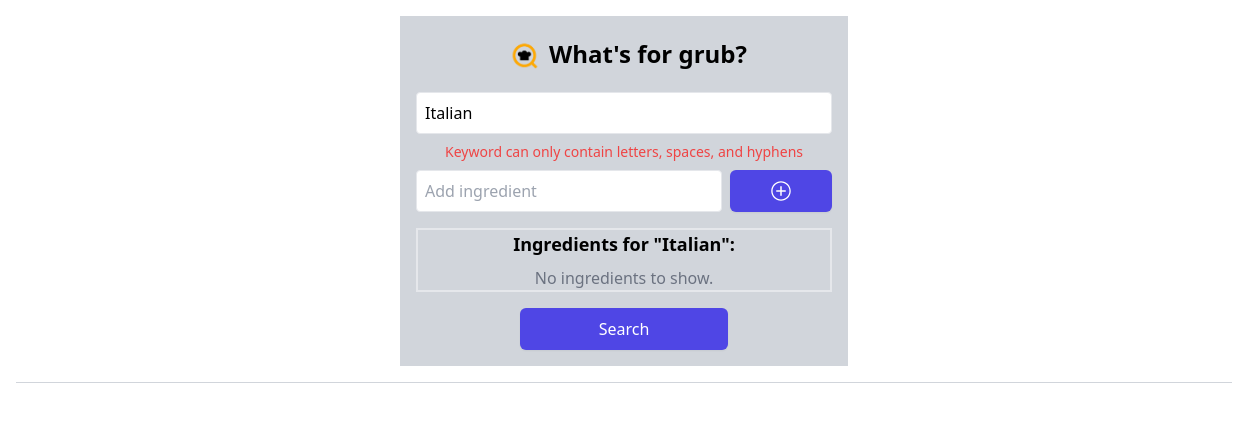
Test: SearchPage component › should show an error if the ingredient is empty
Click the button with test id "add-ingredient-button" at (781, 191), box 730,170 -> 832,212
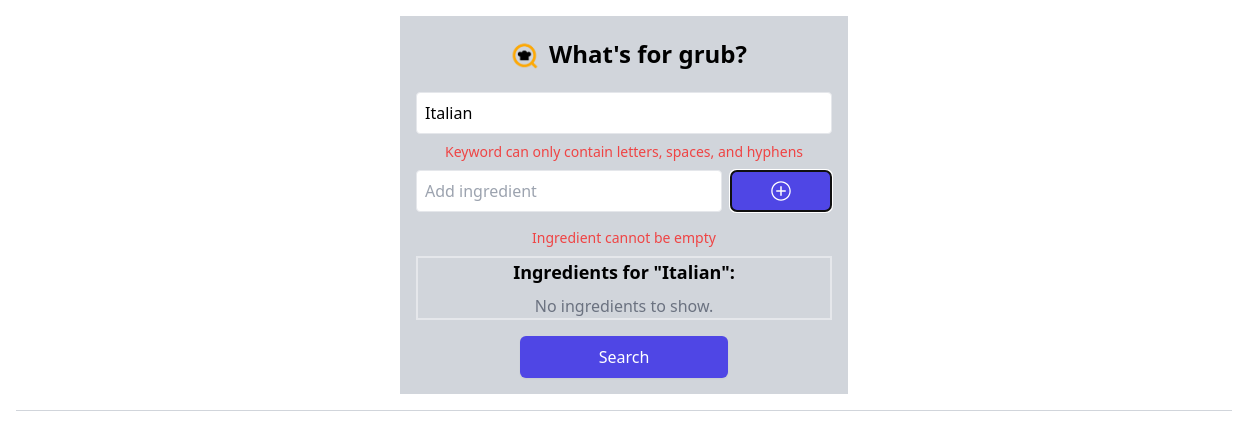
Now the text with test id "ingredient-error" reads "Ingredient cannot be empty", box 532,228 -> 716,247
